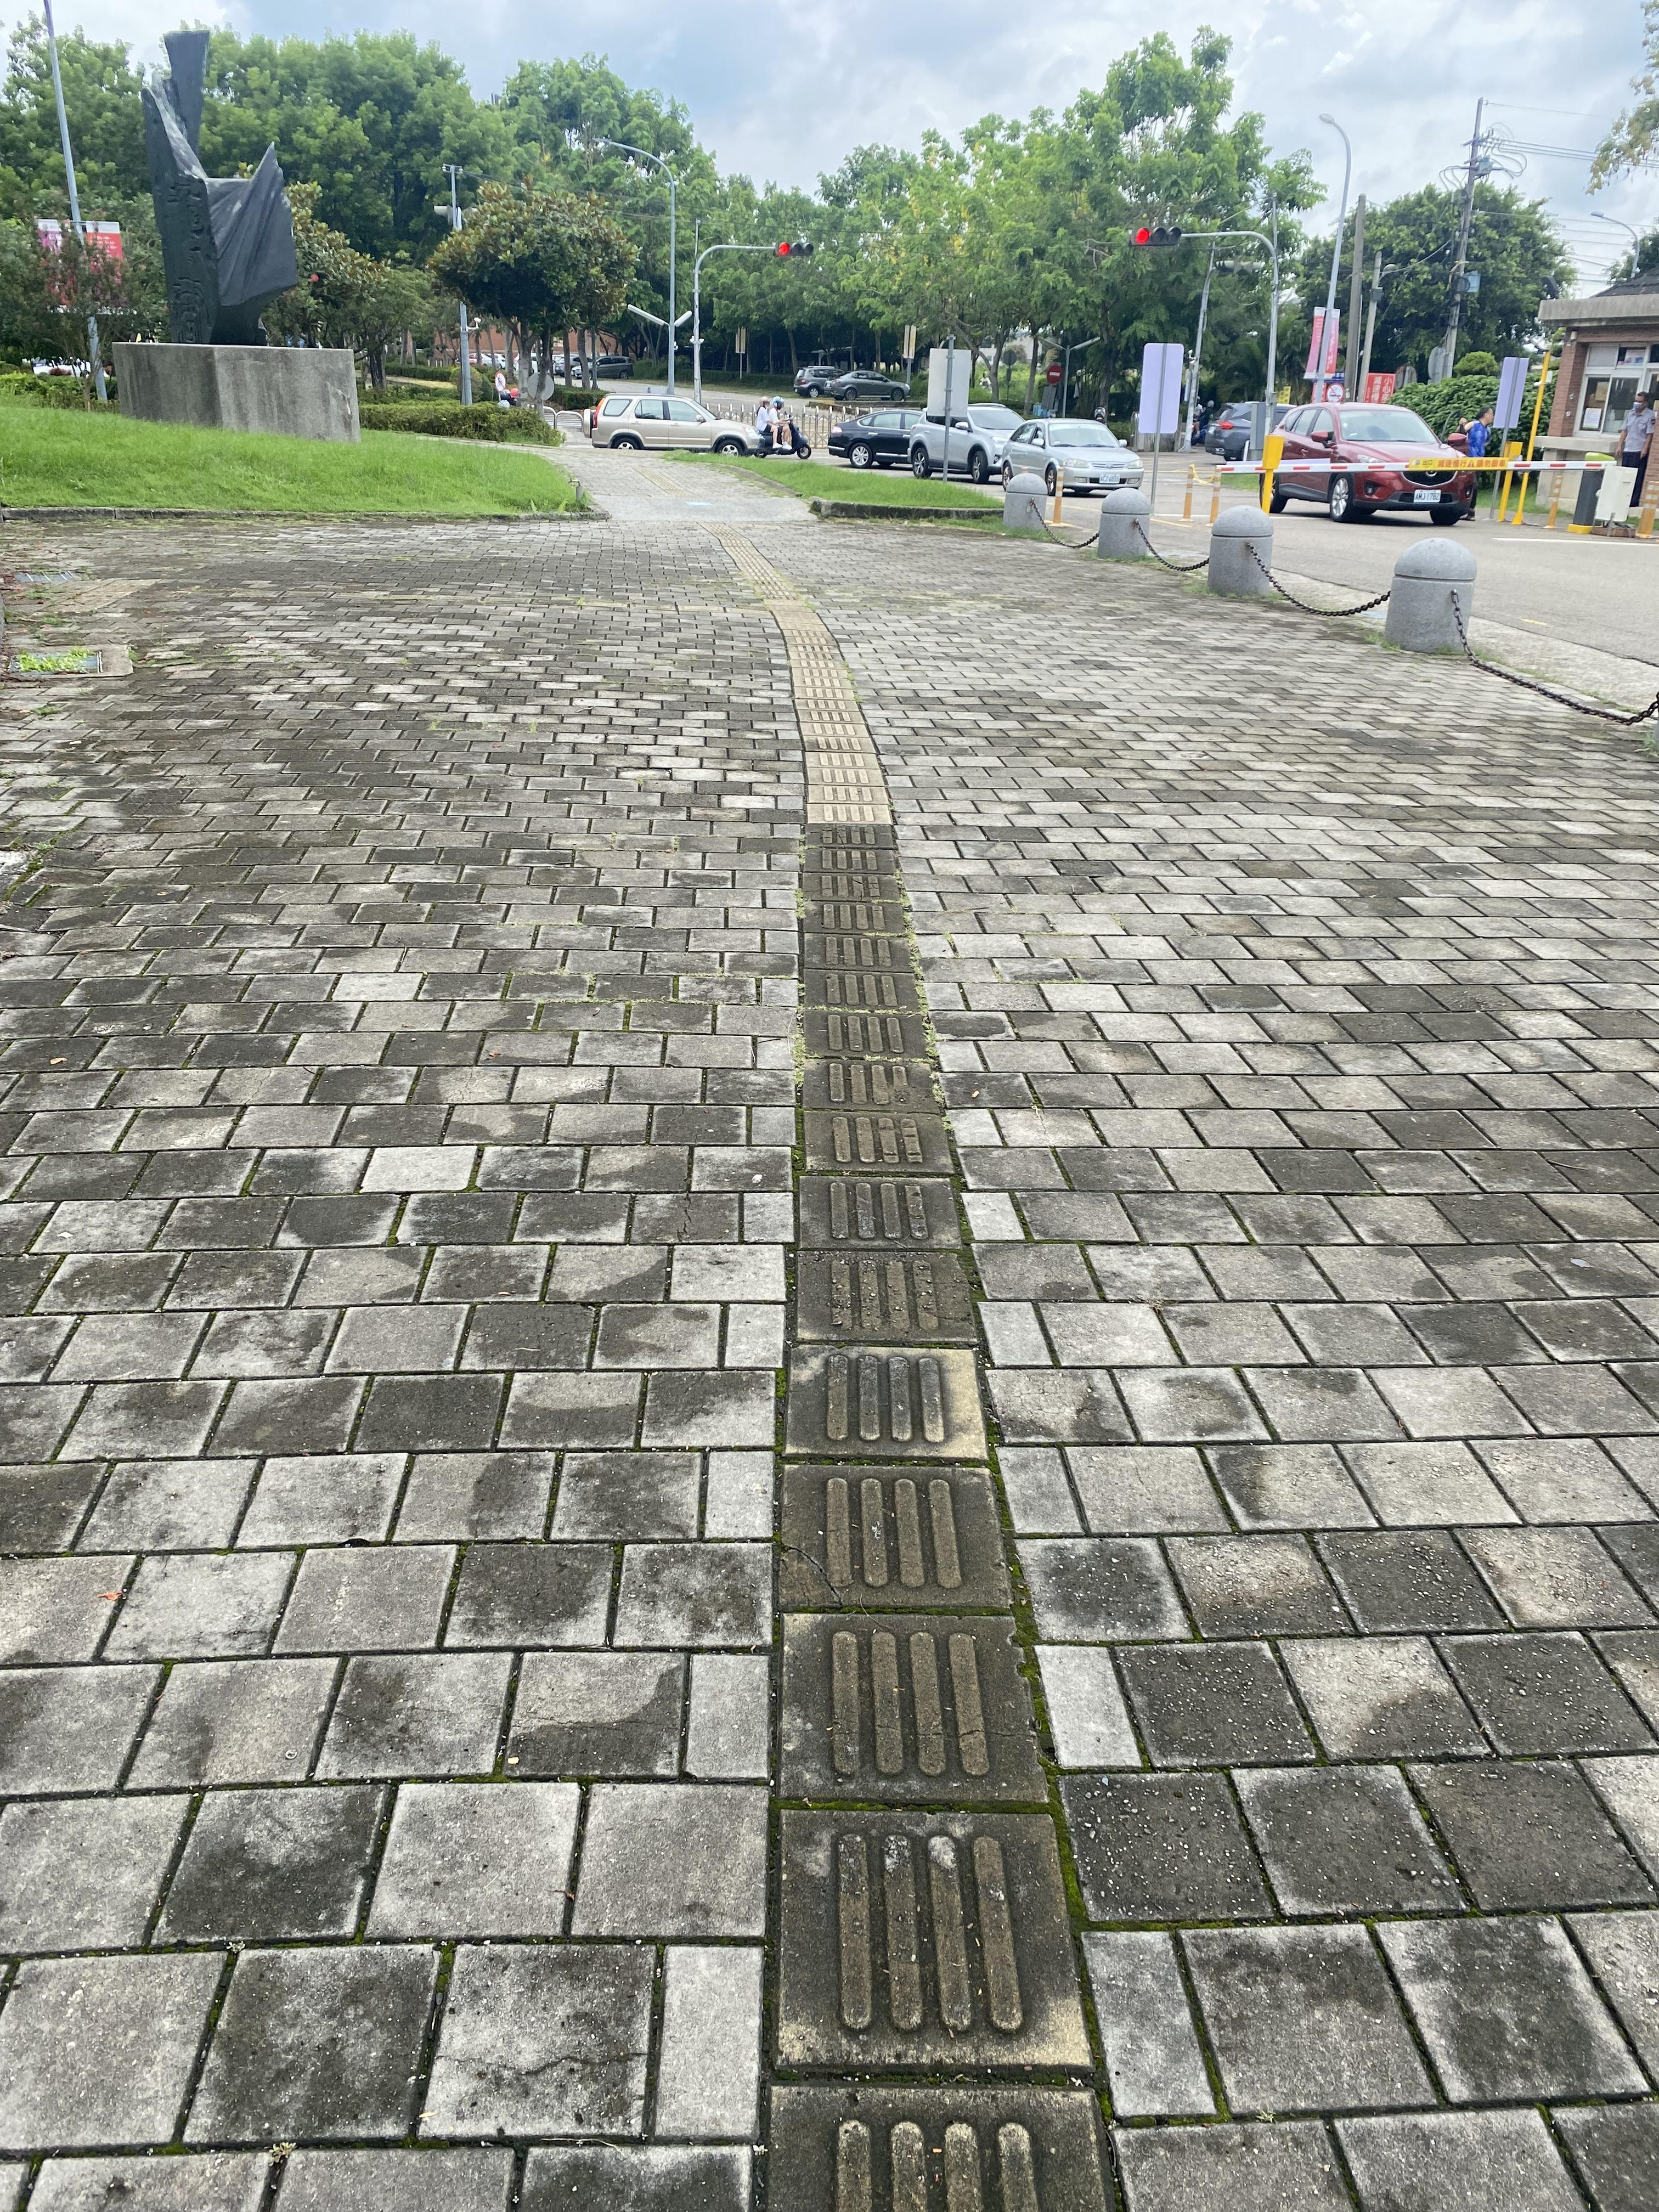sidewalk: (3, 415, 1659, 2212)
